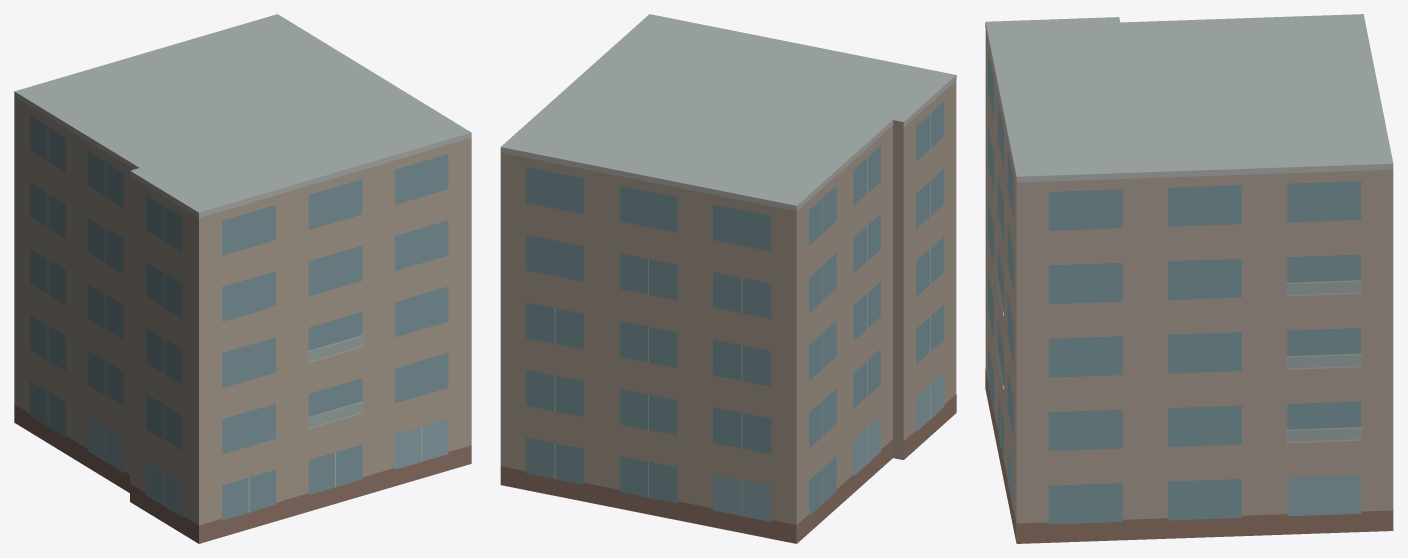
File: survey-upis-32964567.glb
3 views of the same model, side by side, from view 1: azimuth 30°, elevation 25°; view 2: azimuth 150°, elevation 25°; view 3: azimuth 270°, elevation 25° (orthographic). The views are drawn at different scales.
Visible parts, largest first — view 1: survey-upis-32964567.tmp; view 2: survey-upis-32964567.tmp; view 3: survey-upis-32964567.tmp.
Boxes of the visible parts, x1,y1,x2,y2 form: survey-upis-32964567.tmp: (14,14,471,543); survey-upis-32964567.tmp: (500,14,956,543); survey-upis-32964567.tmp: (985,14,1393,543).
Bounding box in the file's own units: 14.51 × 15.25 × 15.37.
